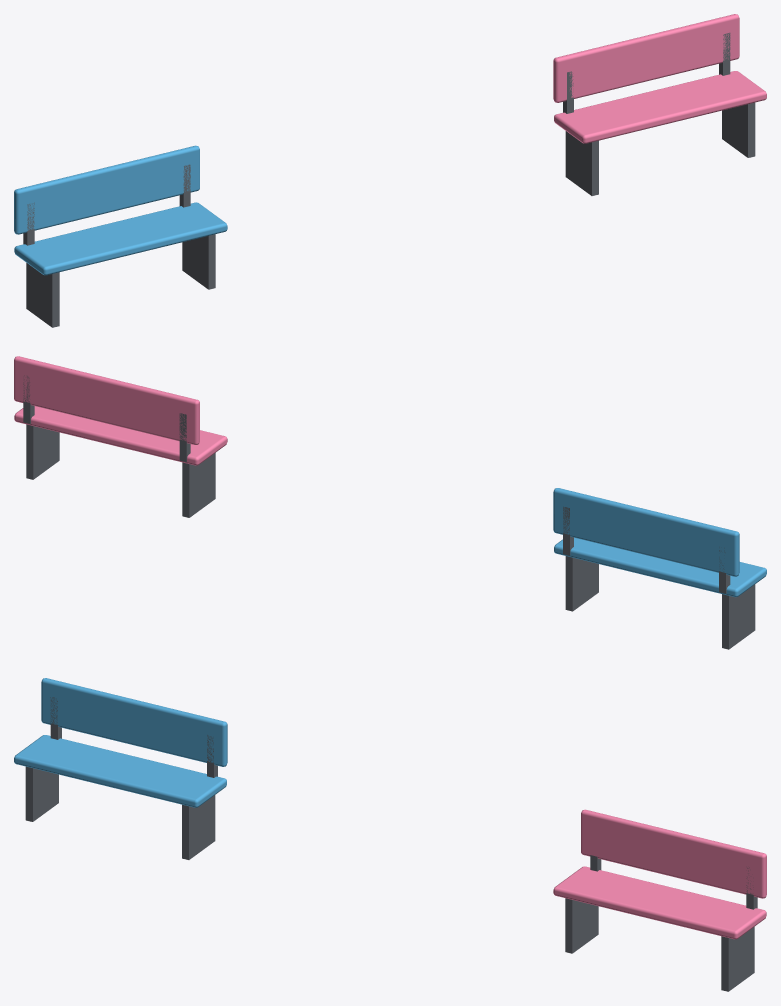
Rendered from kbench.glb.
3 renders of one model, top to bottom at view 1: azimuth 30°, elevation 25°; view 2: azimuth 150°, elevation 25°; view 3: azimuth 330°, elevation 25°, orthographic.
Bounding box in the file's own units: 5.1 × 0.81 × 0.385.
